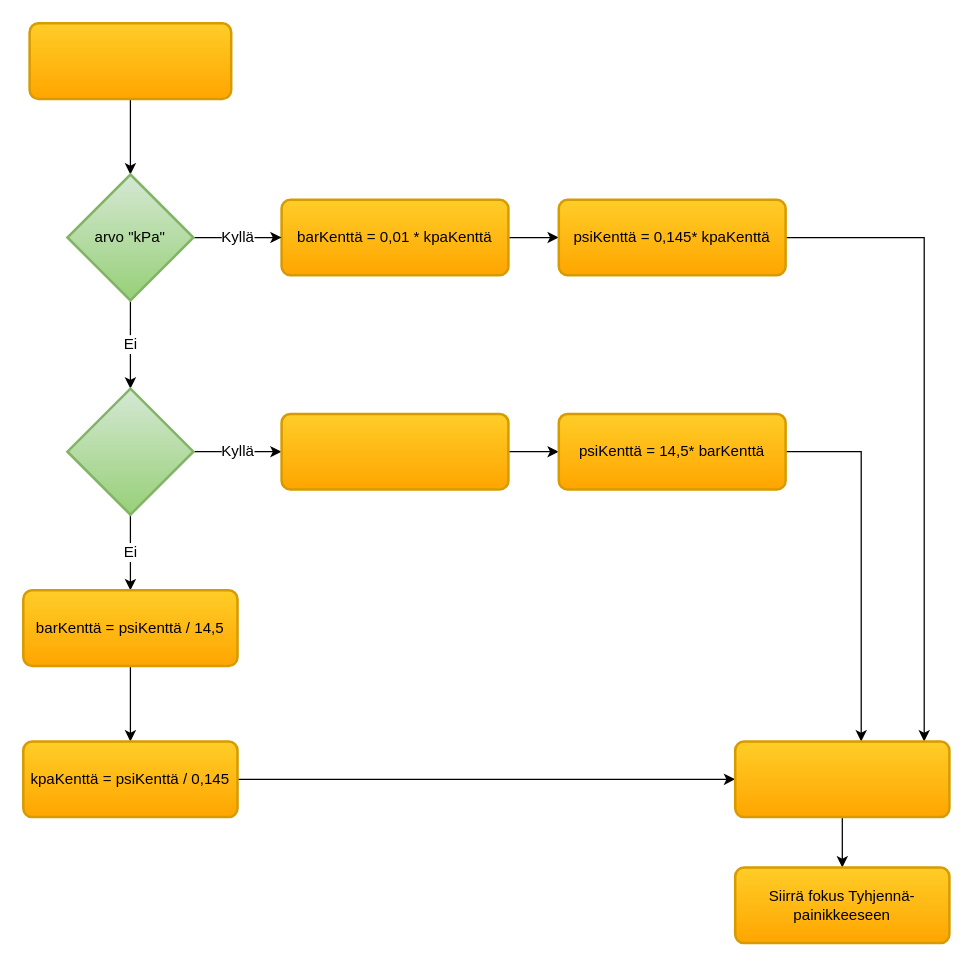
This 971x965 diagram has some shape labels left out. Here are the shapes that lost their labels. From the top down, the box of each, then its label:
(28, 21, 232, 100): Lue muuttuja aktiivinenKenttä
(66, 387, 194, 515): arvo "bar"
(280, 412, 509, 490): kPaKenttä = 100 * barKenttä
(733, 740, 950, 818): Ota käyttöön Tyhjennä-painike
